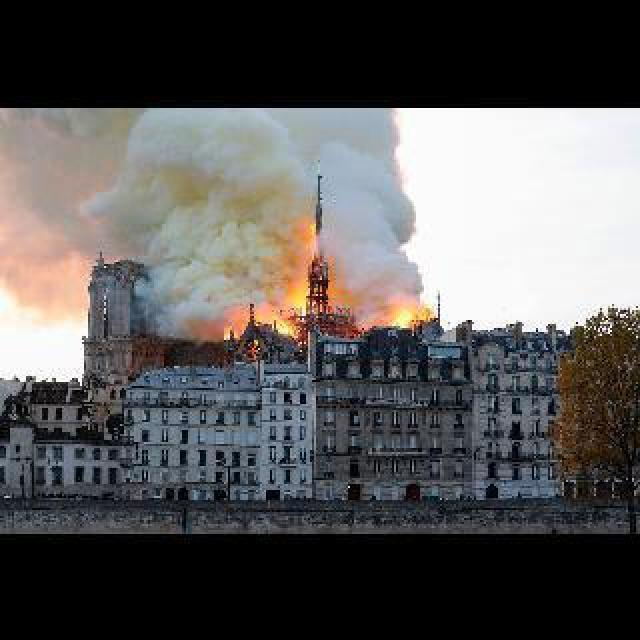Fire: (289, 208, 329, 342), (216, 306, 287, 351), (384, 303, 424, 340)
Smoke: (2, 112, 424, 324)
